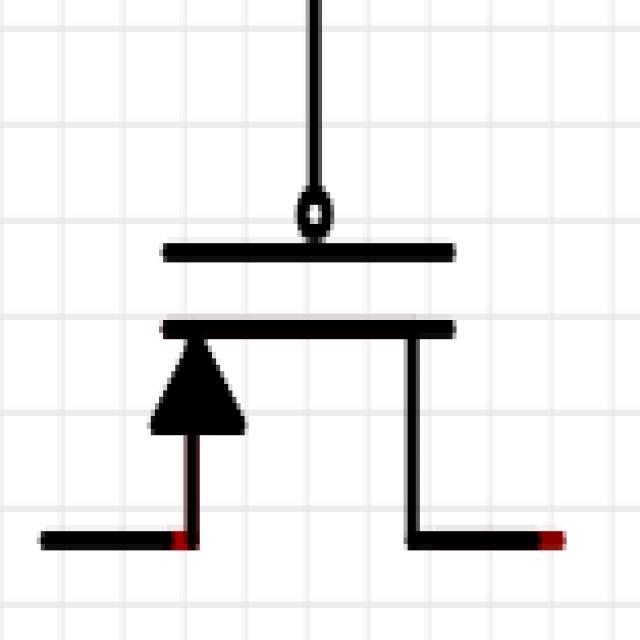pmos: (51, 74, 591, 640)
